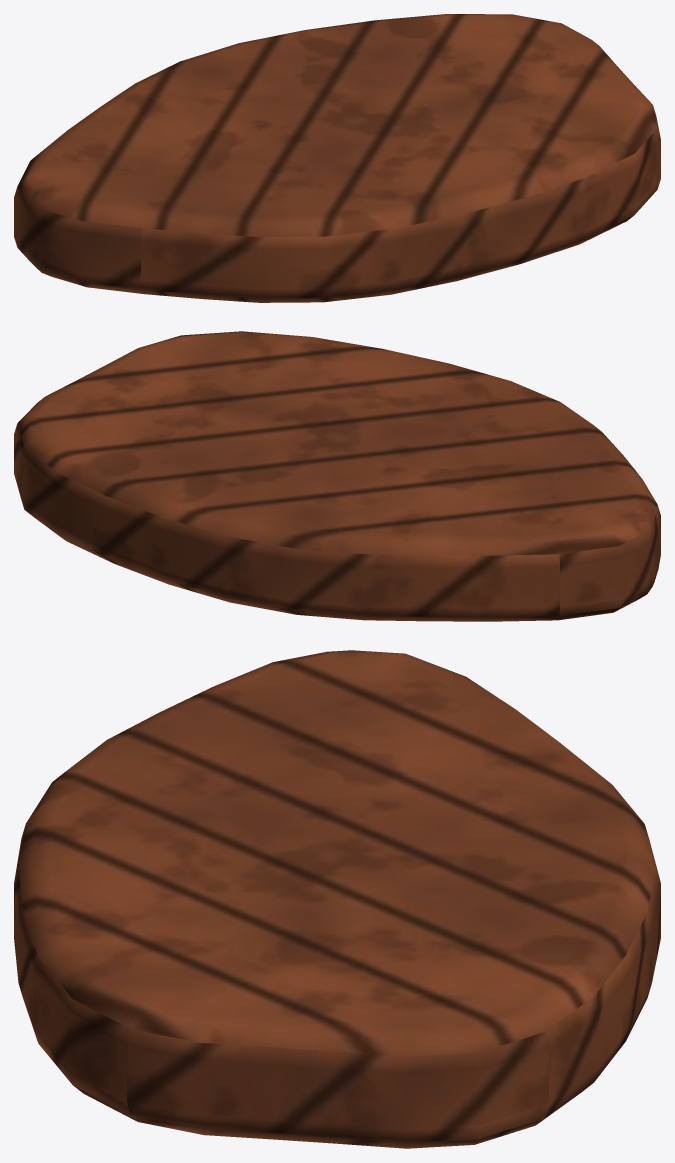
File: SteakCooked.glb
3 views of the same model, one above another, from view 1: azimuth 30°, elevation 25°; view 2: azimuth 150°, elevation 25°; view 3: azimuth 270°, elevation 25° (orthographic). The views are drawn at different scales.
Visible parts, largest first — view 1: SteakCooked_Body; view 2: SteakCooked_Body; view 3: SteakCooked_Body.
Part boxes in pixels (x1,y1,x2,y2): SteakCooked_Body: [14, 14, 660, 302]; SteakCooked_Body: [14, 331, 660, 621]; SteakCooked_Body: [14, 650, 660, 1148].
Size of the model in its own units: 0.2215 by 0.03 by 0.15.
1 material, 1 textured.
